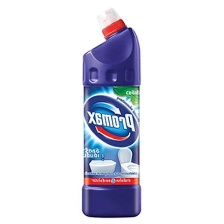cleaning_solution: (79, 1, 145, 219)
